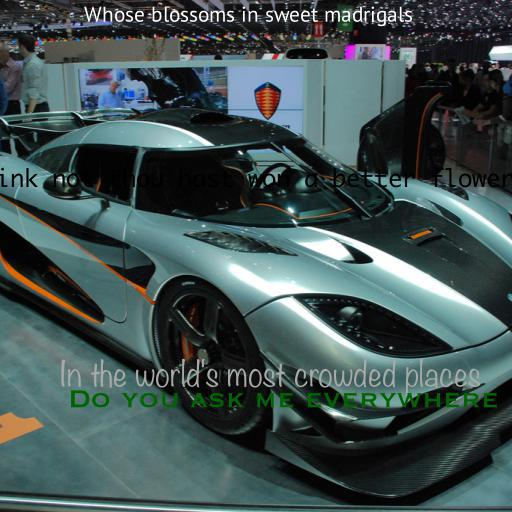Copperplate: (67, 390, 499, 408)
Monaco: (0, 167, 512, 188)
Noteworthy: (59, 358, 481, 398)
PT Sans: (83, 6, 413, 27)
